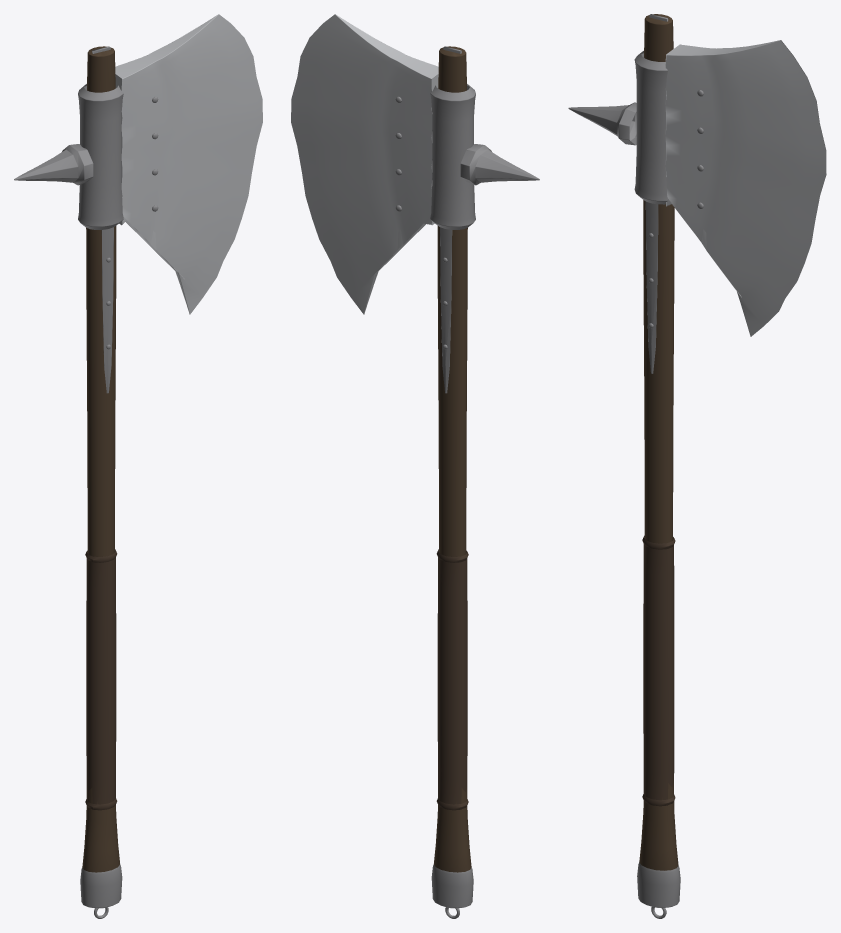
File: gear_axe.glb
3 views of the same model, side by side, from view 1: azimuth 30°, elevation 25°; view 2: azimuth 150°, elevation 25°; view 3: azimuth 330°, elevation 25° (orthographic). The views are drawn at different scales.
Parts seen in each view (by area): view 1: gear_axe; view 2: gear_axe; view 3: gear_axe.
Boxes of the visible parts, <box> form: gear_axe: <box>14,14,262,918</box>; gear_axe: <box>291,14,539,918</box>; gear_axe: <box>568,14,826,918</box>.
Bounding box in the file's own units: 0.3595 × 1.21 × 0.0544.
